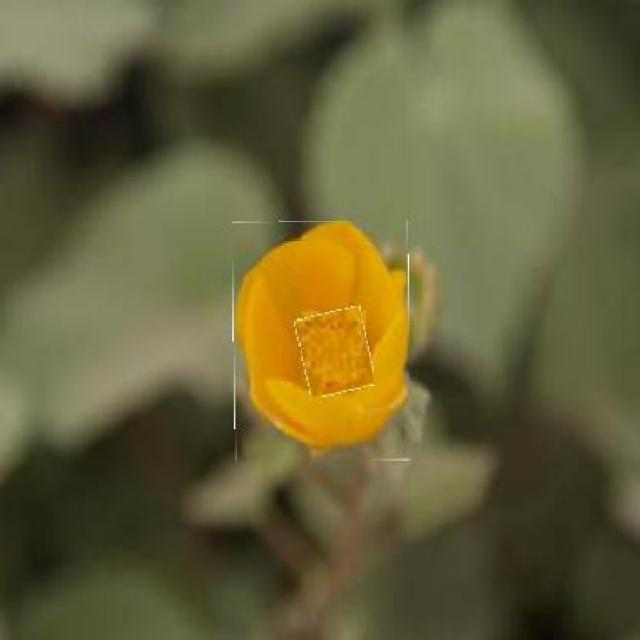Flower: (233, 222, 410, 462), (298, 310, 372, 396)
